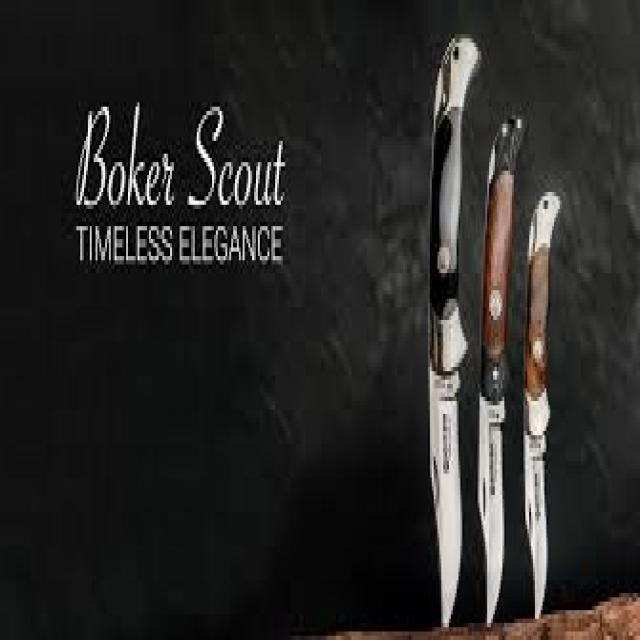knives: (401, 23, 476, 629)
